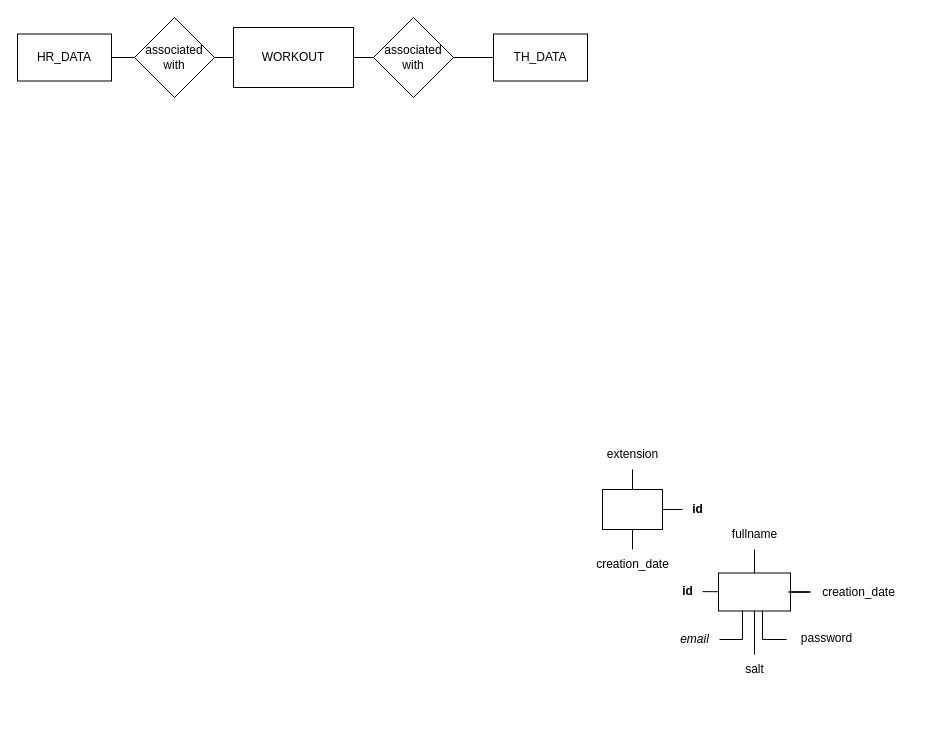
The diagram is 926 pixels wide and 737 high, and some of its shapes have lost their labels. Each missing label, with the centre of its shape:
ACCOUNT: point 754,591
FILE: point 632,509
